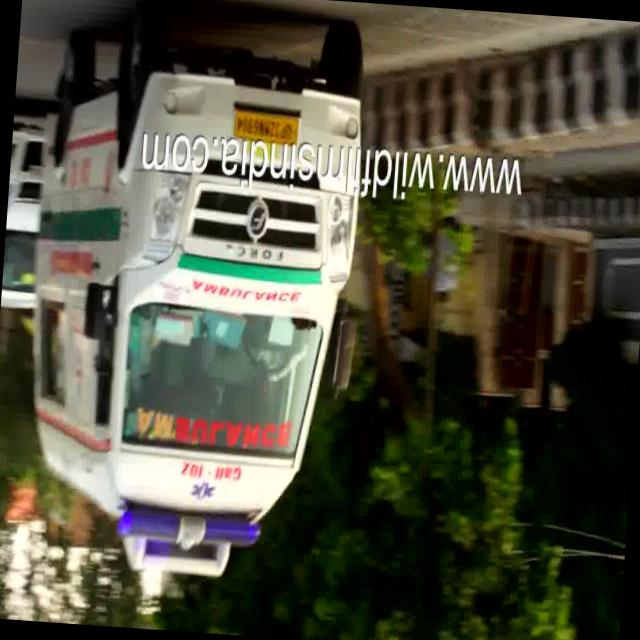ambulance: (5, 169, 356, 596), (33, 8, 371, 135)
